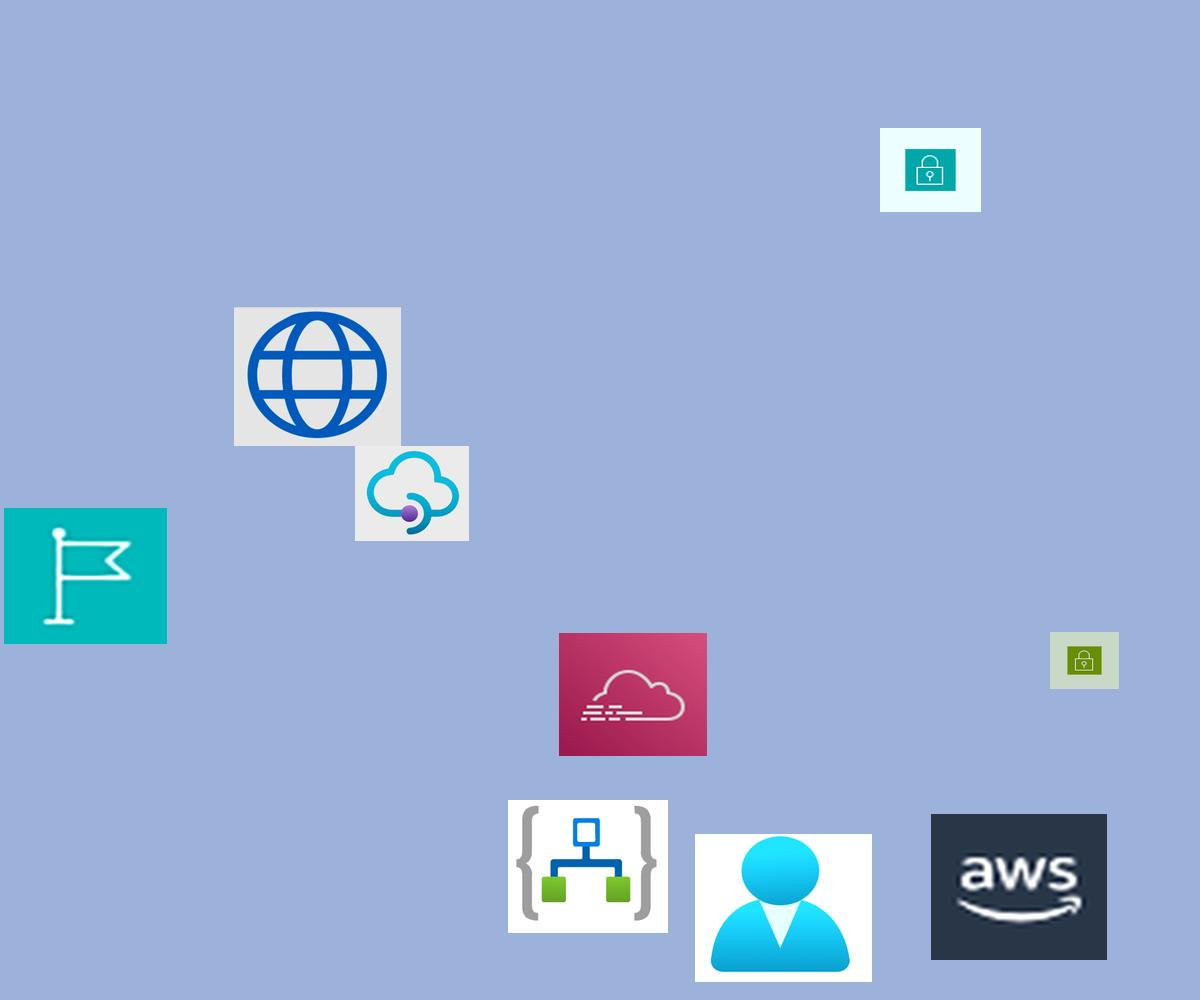AWS-Cloud-logo: (931, 814, 1107, 960)
AWS-CloudTrail: (559, 633, 707, 756)
AWS-Private-subnet: (880, 128, 981, 212)
AWS-Public-subnet: (1050, 632, 1119, 689)
AWS-Region: (4, 508, 167, 644)
Azure_api_gateway: (355, 446, 469, 541)
Azure_http: (234, 307, 401, 446)
Azure_integration-204-Logic-Apps: (508, 800, 668, 933)
Azure_users: (695, 834, 872, 982)
